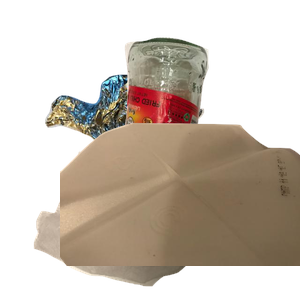glass: (112, 35, 300, 215)
metal: (42, 72, 239, 229)
plastic: (60, 120, 300, 300)
trash: (31, 149, 268, 300)
